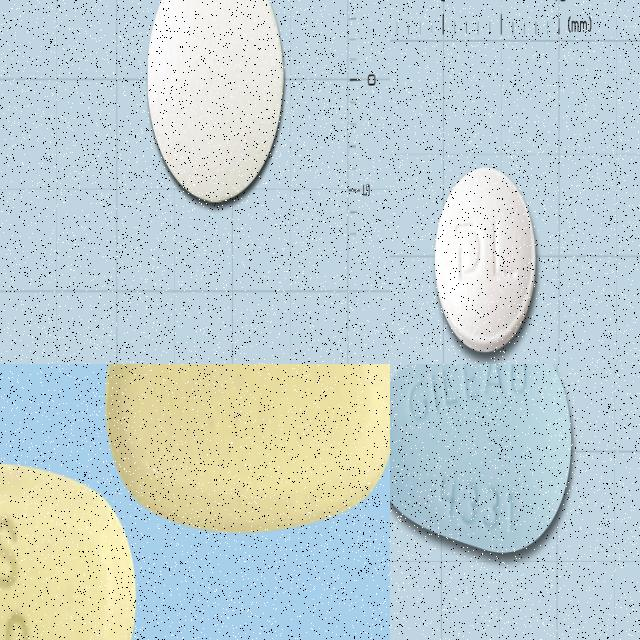Kipocin: (147, 0, 285, 205)
Levicin: (435, 165, 538, 355)
Samsung Clarithromycin Tab-500mg: (104, 364, 390, 530), (0, 459, 138, 640)
Whanin Levofloxacin Tab: (390, 364, 573, 556)
